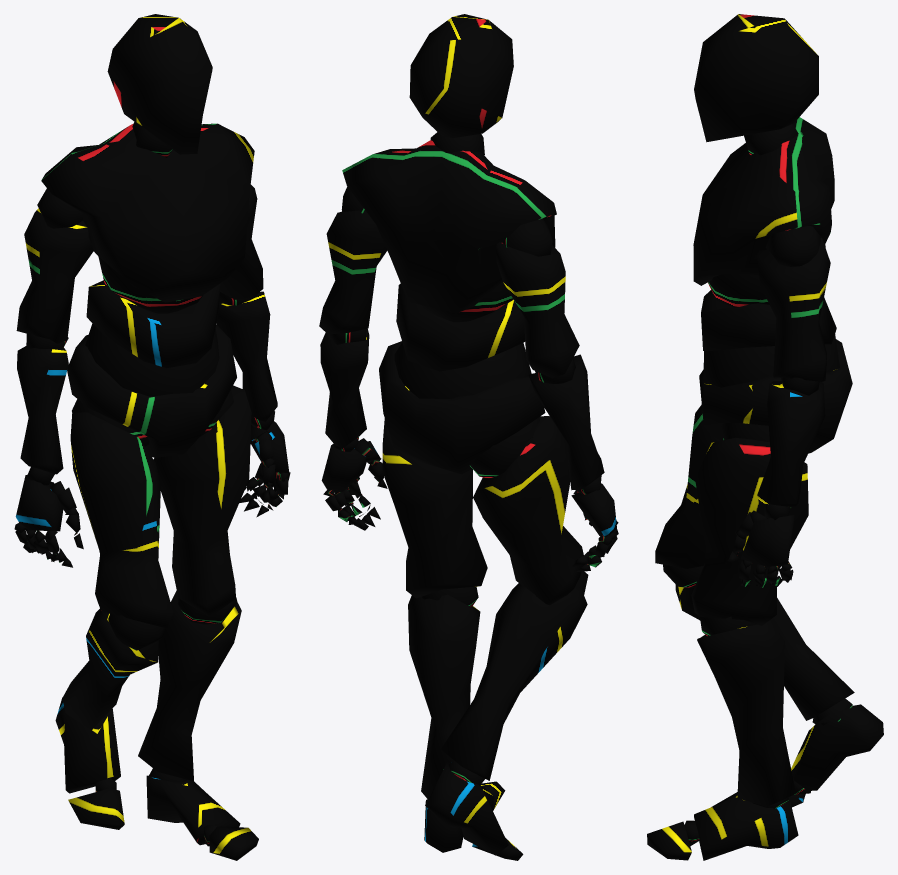
The model's file is y-bot-origin_000027.obj.
3 views of the same model, side by side, from view 1: azimuth 30°, elevation 25°; view 2: azimuth 150°, elevation 25°; view 3: azimuth 270°, elevation 25° (orthographic).
Parts seen in each view (by area): view 1: Alpha_Surface_Alpha_SurfaceMesh, Alpha_Joints_Alpha_JointsMesh; view 2: Alpha_Surface_Alpha_SurfaceMesh, Alpha_Joints_Alpha_JointsMesh; view 3: Alpha_Surface_Alpha_SurfaceMesh, Alpha_Joints_Alpha_JointsMesh.
Boxes of the visible parts, x1=… form: Alpha_Surface_Alpha_SurfaceMesh: x1=15, y1=14, x2=289, y2=860; Alpha_Joints_Alpha_JointsMesh: x1=14, y1=122, x2=290, y2=846; Alpha_Surface_Alpha_SurfaceMesh: x1=319, y1=14, x2=617, y2=860; Alpha_Joints_Alpha_JointsMesh: x1=323, y1=132, x2=618, y2=807; Alpha_Surface_Alpha_SurfaceMesh: x1=647, y1=14, x2=883, y2=860; Alpha_Joints_Alpha_JointsMesh: x1=663, y1=124, x2=852, y2=845.
Bounding box in the file's own units: 0.6304 × 1.79 × 0.4682.
